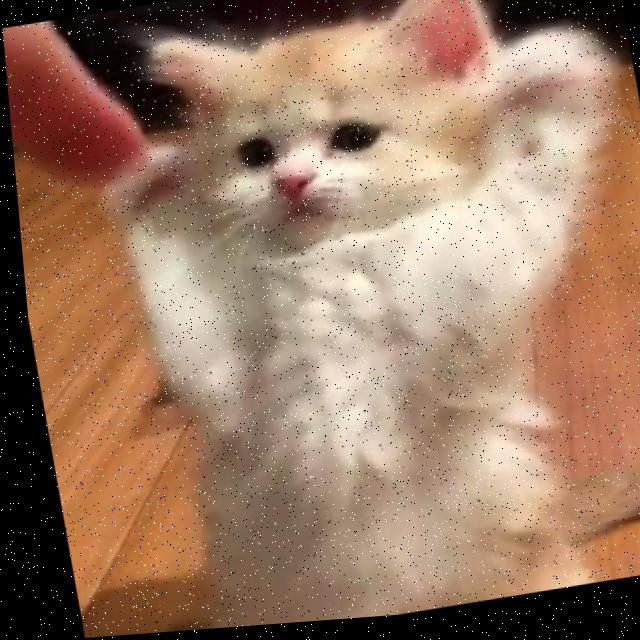Cats: (27, 0, 640, 638)
